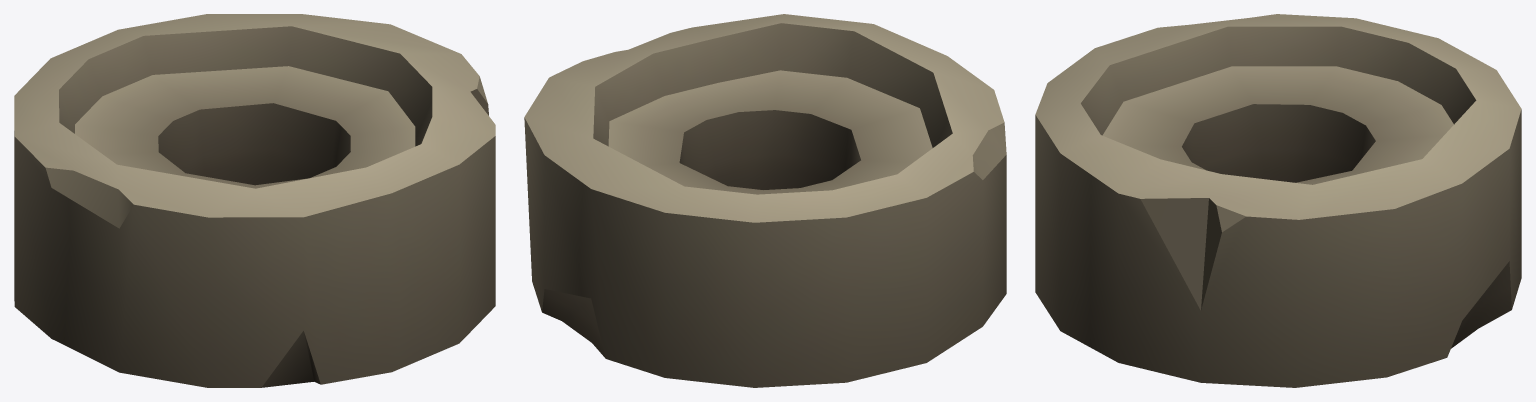
The model's file is Wheel_2A.fbx.
The picture shows the model from 3 angles, left to right: view 1: azimuth 30°, elevation 25°; view 2: azimuth 150°, elevation 25°; view 3: azimuth 270°, elevation 25°; orthographic projection. The views are drawn at different scales.
Parts seen in each view (by area): view 1: Wheel_2A; view 2: Wheel_2A; view 3: Wheel_2A.
Part boxes in pixels (bbox=[...]): Wheel_2A: bbox=[14, 14, 495, 387]; Wheel_2A: bbox=[524, 14, 1006, 387]; Wheel_2A: bbox=[1035, 14, 1521, 387].
Bounding box in the file's own units: 1.2 × 0.5173 × 1.19.
